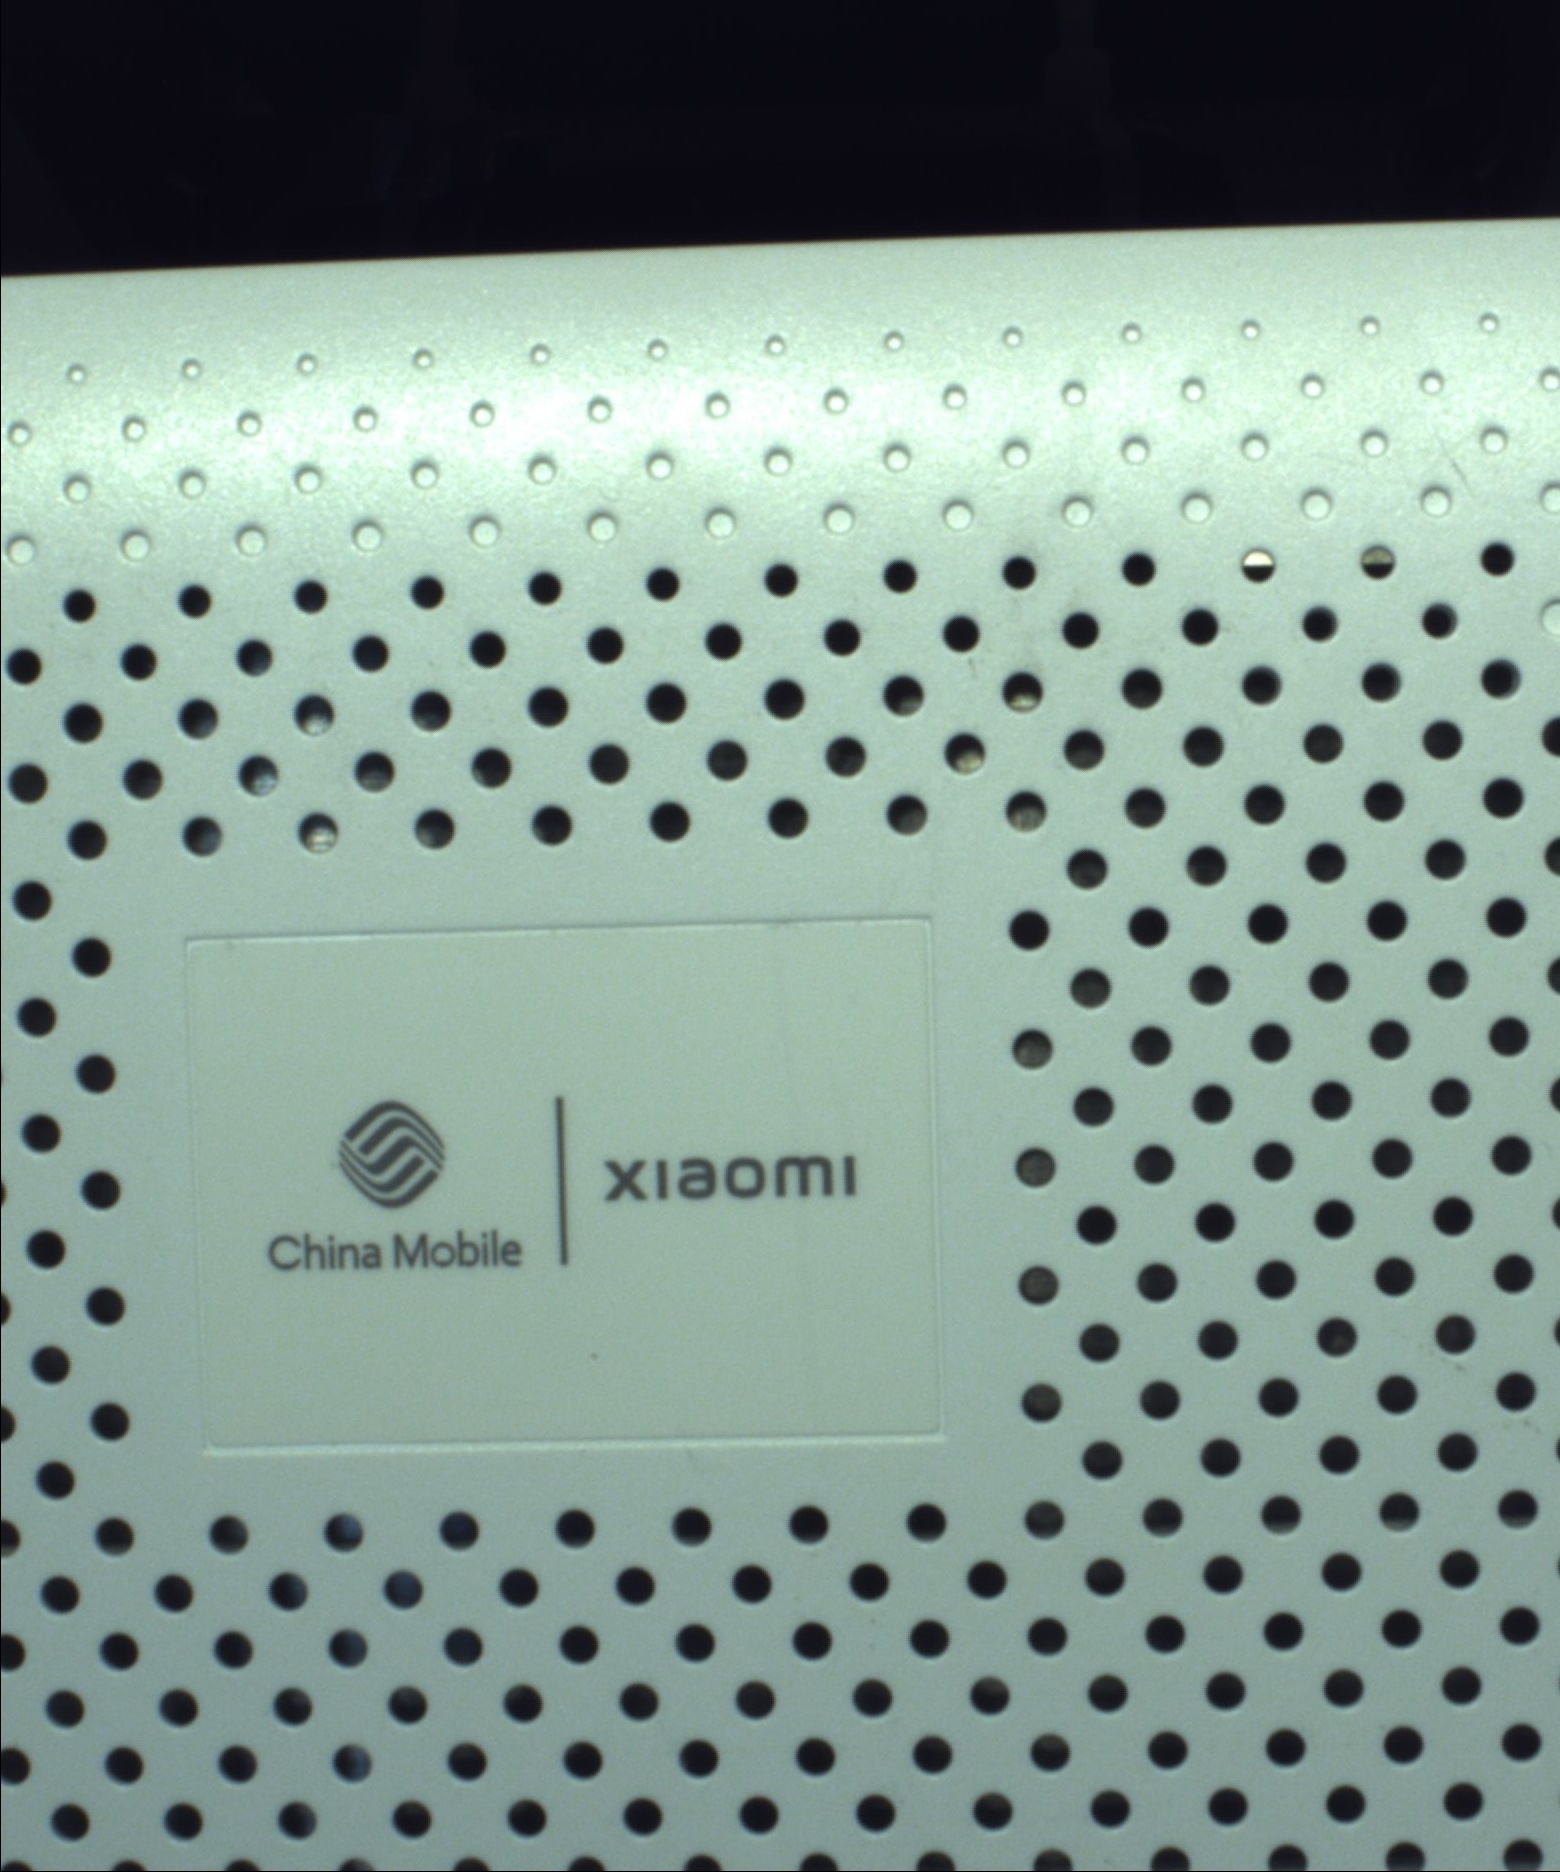MAD_ChinaMobile: (233, 1088, 874, 1294)
